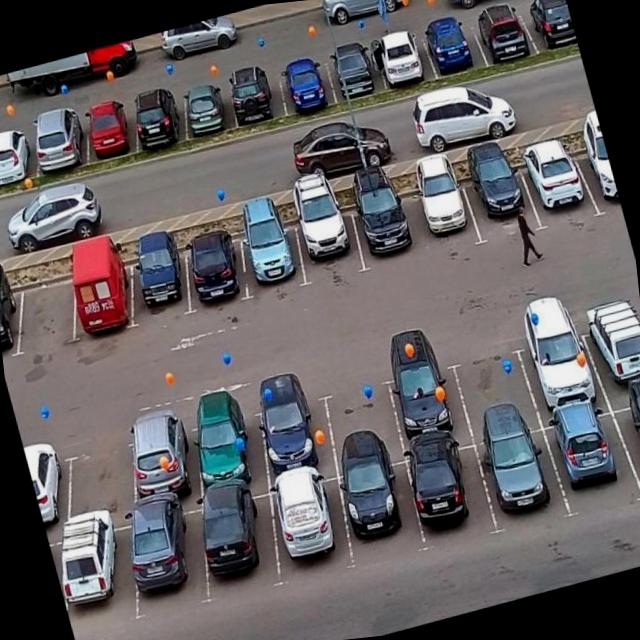car: (115, 503, 224, 621), (188, 484, 294, 600), (328, 458, 434, 570), (256, 468, 360, 582), (51, 516, 150, 633), (471, 422, 571, 536), (542, 401, 640, 517), (398, 440, 499, 550), (380, 341, 474, 457), (248, 372, 340, 482), (120, 405, 210, 514), (184, 397, 272, 496), (515, 308, 598, 412), (340, 185, 422, 276), (56, 256, 142, 341), (457, 154, 538, 243), (288, 197, 370, 283), (396, 170, 479, 254), (519, 142, 597, 230), (116, 245, 198, 328), (175, 230, 255, 314), (20, 429, 83, 532), (232, 214, 311, 296), (579, 297, 640, 401), (20, 102, 96, 184), (464, 0, 540, 79), (72, 84, 146, 165), (415, 10, 488, 90), (168, 69, 239, 149), (220, 56, 290, 134), (126, 84, 194, 161), (316, 35, 384, 111), (366, 19, 433, 96), (274, 47, 338, 120), (576, 128, 624, 218), (512, 0, 580, 61), (611, 390, 640, 502), (0, 115, 40, 194), (0, 278, 33, 359)
free: (48, 418, 154, 528), (314, 354, 408, 466), (453, 334, 542, 439), (5, 270, 90, 356)
